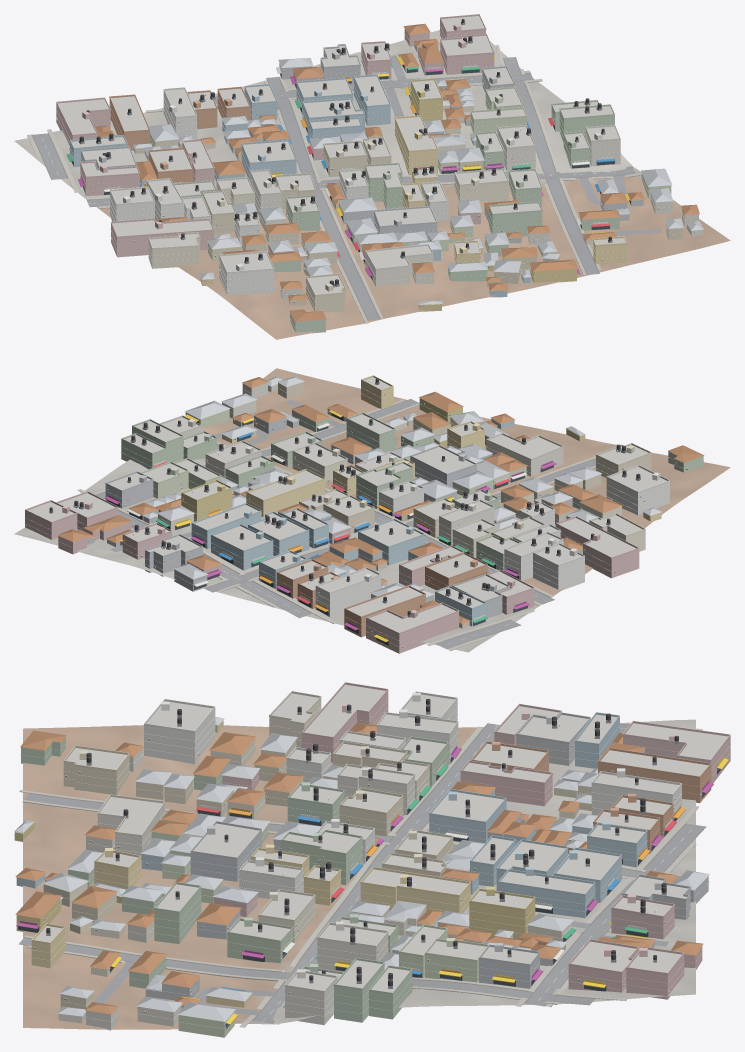
3 renders of one model, top to bottom at view 1: azimuth 30°, elevation 25°; view 2: azimuth 150°, elevation 25°; view 3: azimuth 270°, elevation 25°, orthographic. The views are drawn at different scales.
Parts seen in each view (by area): view 1: Buildings-col, Details, Terrain-col, Roads-col, Sidewalks-col; view 2: Buildings-col, Details, Terrain-col, Roads-col, Sidewalks-col; view 3: Buildings-col, Details, Terrain-col, Roads-col, Sidewalks-col.
Boxes of the visible parts, x1,y1,x2,y2 form: Buildings-col: [56, 16, 703, 333]; Details: [56, 14, 699, 328]; Terrain-col: [14, 30, 730, 339]; Roads-col: [31, 55, 661, 320]; Sidewalks-col: [27, 45, 641, 323]; Buildings-col: [25, 376, 704, 653]; Details: [25, 375, 703, 647]; Terrain-col: [14, 368, 730, 652]; Roads-col: [96, 399, 595, 649]; Sidewalks-col: [77, 400, 595, 651]; Buildings-col: [14, 684, 730, 1037]; Details: [16, 682, 730, 1030]; Terrain-col: [23, 719, 695, 1029]; Roads-col: [19, 723, 706, 1023]; Sidewalks-col: [19, 724, 702, 1027].
Size of the model in its own units: 283 by 27.25 by 273.
